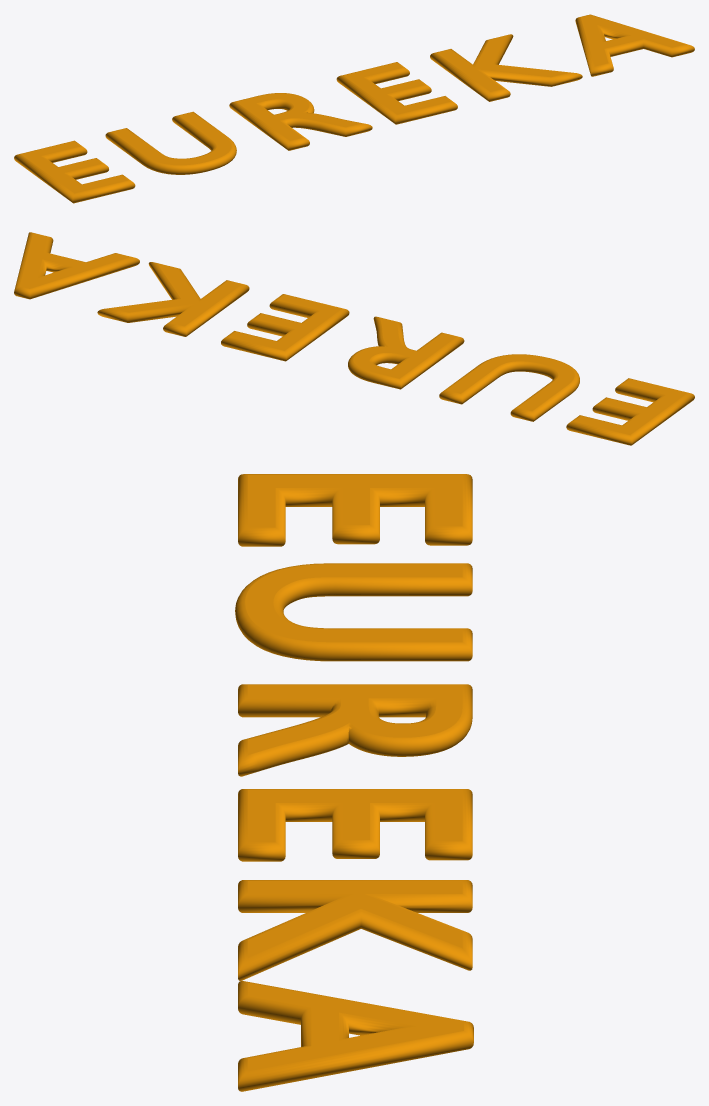
Rendered from EUREKA (1).fbx.
3 views of the same model, one above another, from view 1: azimuth 30°, elevation 25°; view 2: azimuth 150°, elevation 25°; view 3: azimuth 270°, elevation 25° (orthographic). The views are drawn at different scales.
Parts seen in each view (by area): view 1: Text; view 2: Text; view 3: Text.
Boxes of the visible parts, bbox=[...] form: Text: bbox=[14, 14, 694, 203]; Text: bbox=[14, 232, 694, 445]; Text: bbox=[235, 474, 473, 1091].
Size of the model in its own units: 457 by 6.4 by 75.9.
